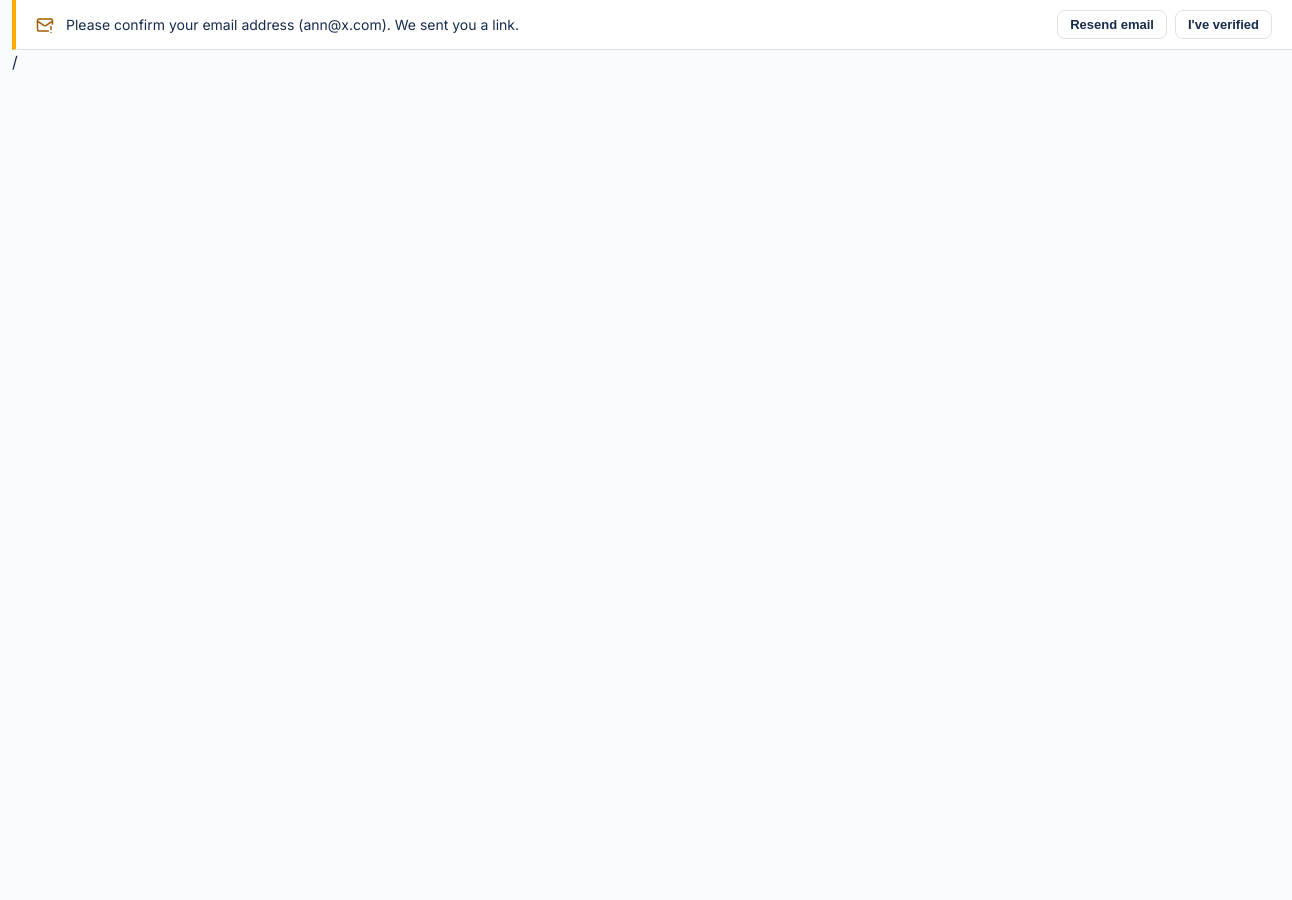
Test case: VerifyEmailBanner › resend: failure toast
Click the button "Resend email" at (1112, 24), box [1057,10,1167,39]
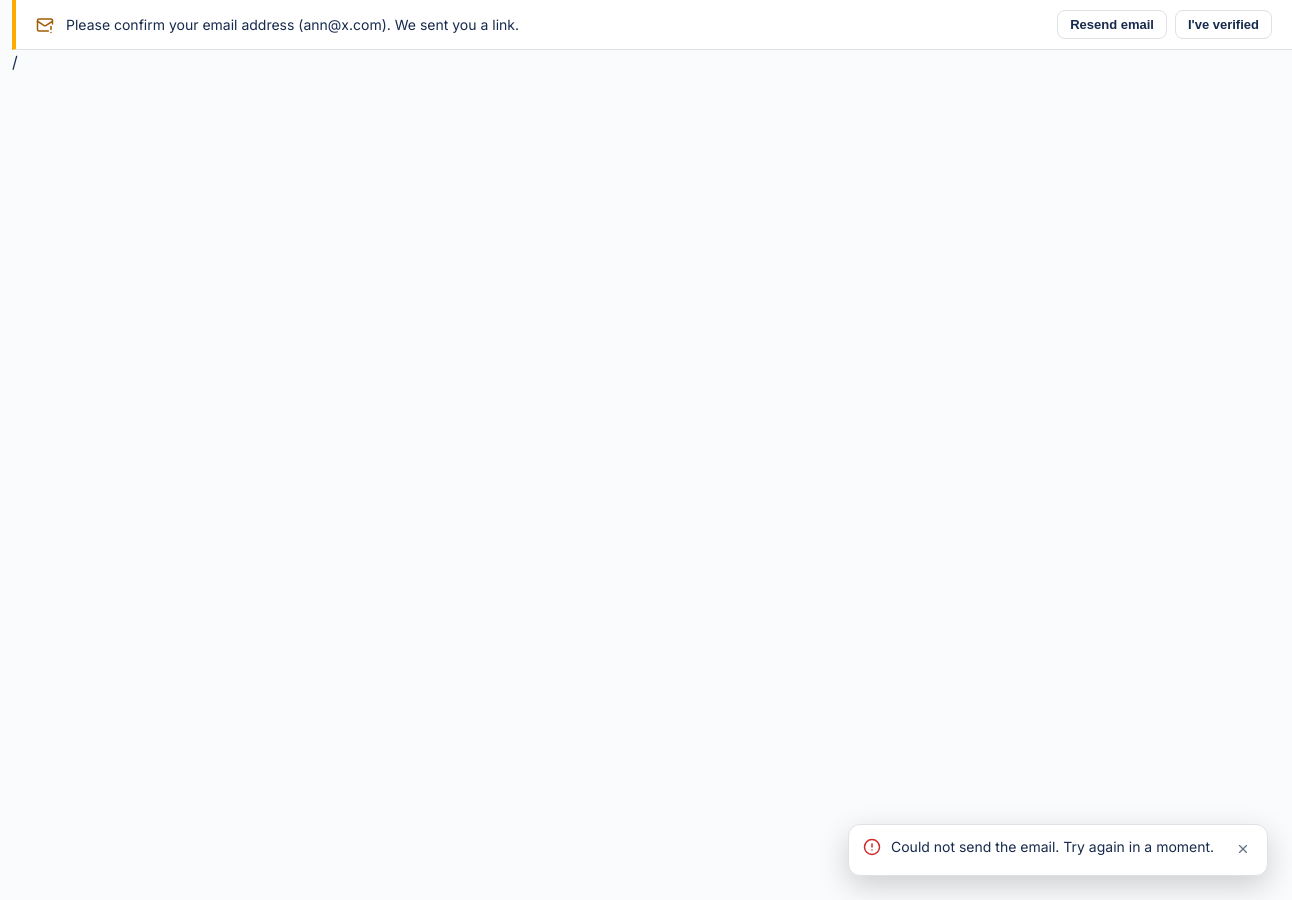
expect the text "Could not send the email. Try again in a moment." is shown: met, box [891,837,1221,857]
